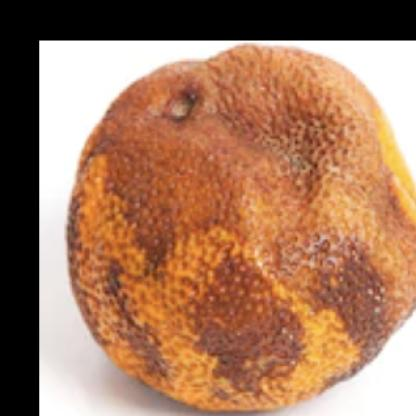rotten: (69, 47, 416, 416)
